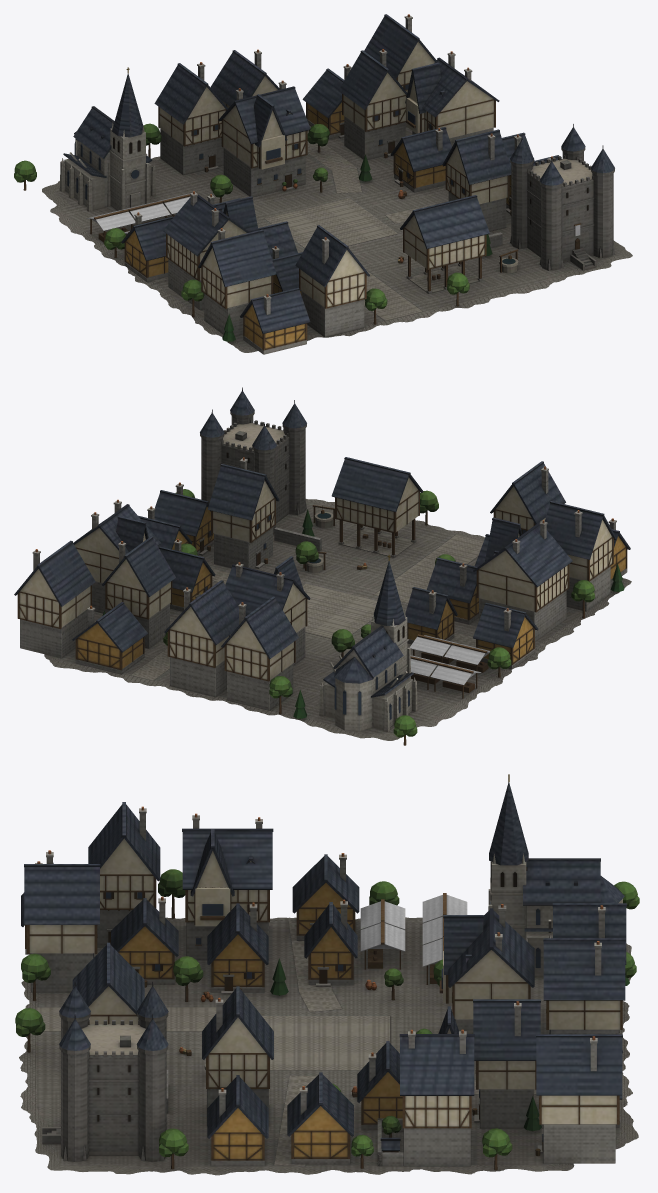
Rendered from kingdoms-town-medium-b-europe-6eb5cb06.glb.
3 views of the same model, one above another, from view 1: azimuth 30°, elevation 25°; view 2: azimuth 150°, elevation 25°; view 3: azimuth 270°, elevation 25° (orthographic). The views are drawn at different scales.
Parts seen in each view (by area): view 1: LOD0; view 2: LOD0; view 3: LOD0.
Part boxes in pixels (left/top/right/bottom): LOD0: left=14, top=14, right=632, bottom=354; LOD0: left=14, top=387, right=631, bottom=745; LOD0: left=15, top=774, right=639, bottom=1175.
Size of what is drawn, in the model's own units: 6.05 by 1.99 by 6.09.
Materials: 3 (3 with a texture image).
